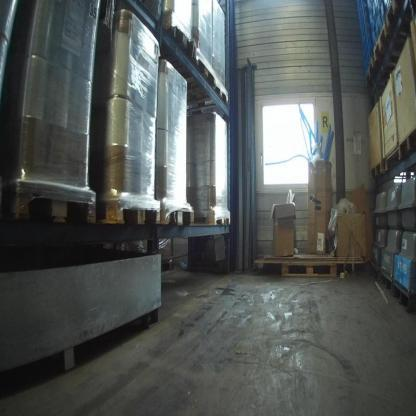pallets: (0, 185, 237, 233), (157, 25, 231, 107), (361, 1, 415, 101), (253, 252, 364, 279), (367, 127, 415, 179), (371, 267, 415, 316)
